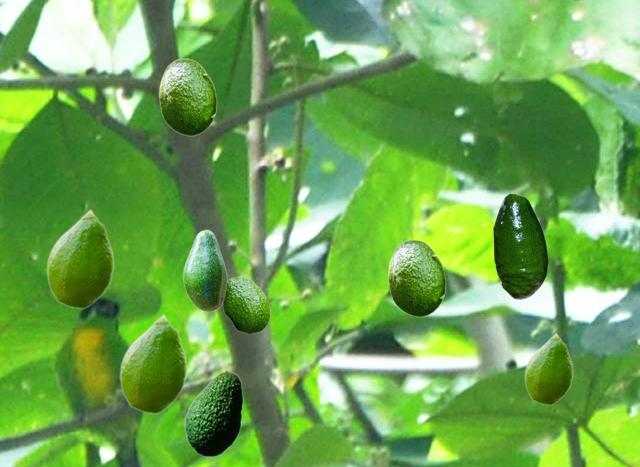avocado: (119, 313, 186, 413), (46, 208, 113, 308), (493, 193, 547, 298), (184, 370, 242, 456), (158, 58, 216, 135), (387, 239, 445, 316), (182, 229, 226, 311), (524, 332, 572, 404), (222, 275, 269, 333)
